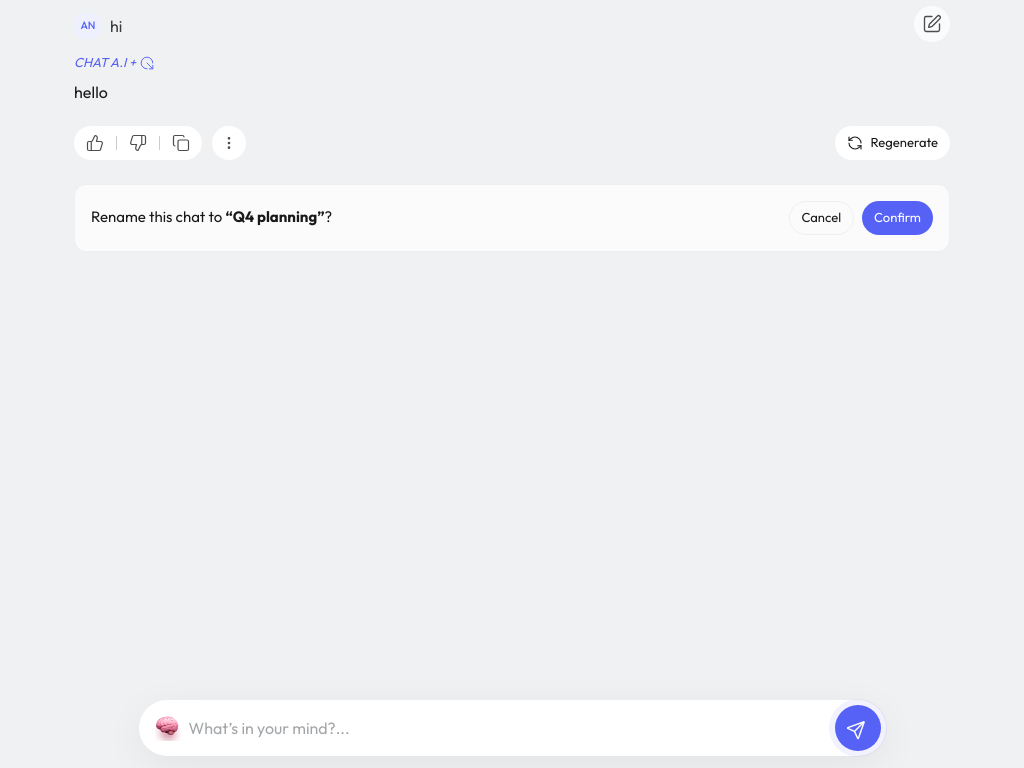
Test: ThreadPane › keeps the card and shows a notice when the rename fails
The width and height of the screenshot is (1024, 768).
Click the button "Confirm".
click(898, 218)  # box [862,200,933,234]
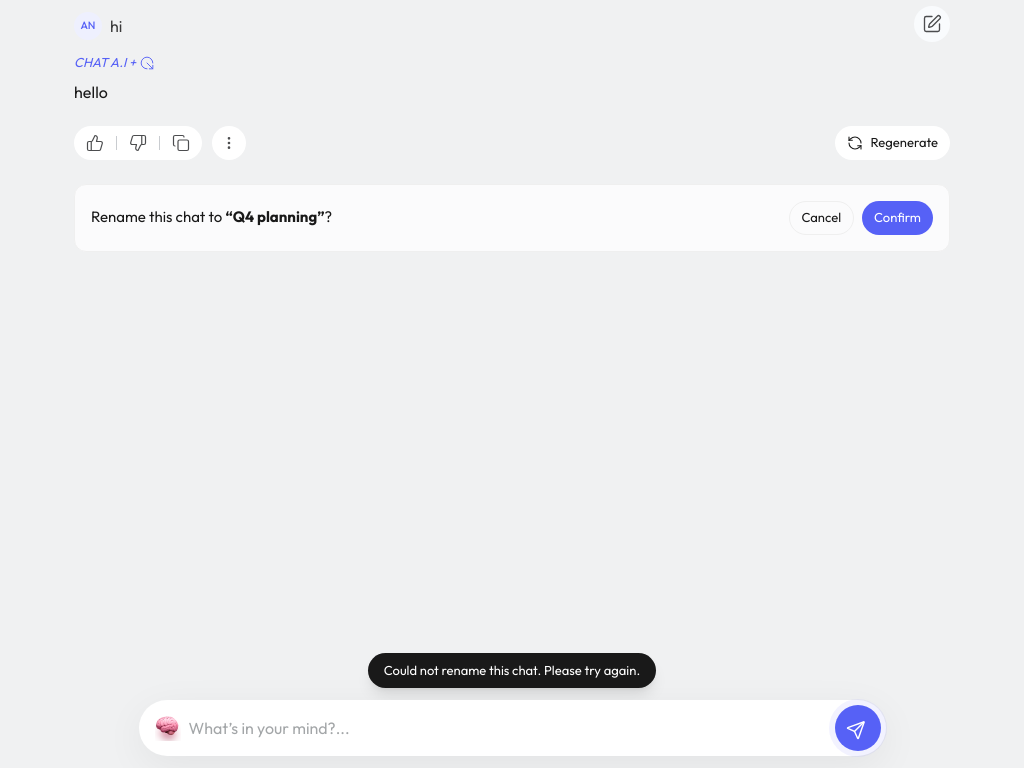
Expected: the element "Rename this chat" is shown, [74,184,950,252]
Expected: the text "Could not rename this chat. Please try again." is shown, [368,652,656,688]
